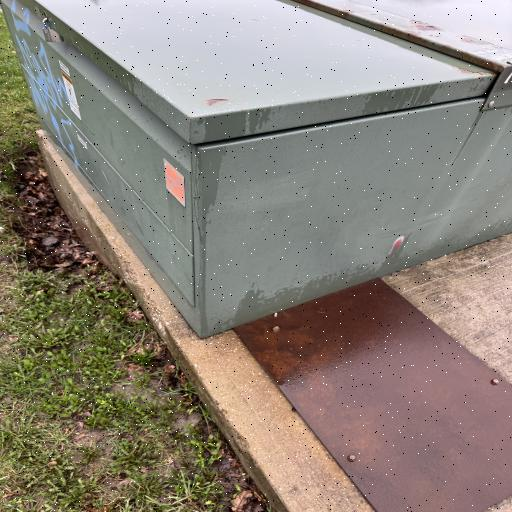Electrical Box: (0, 0, 512, 337)
